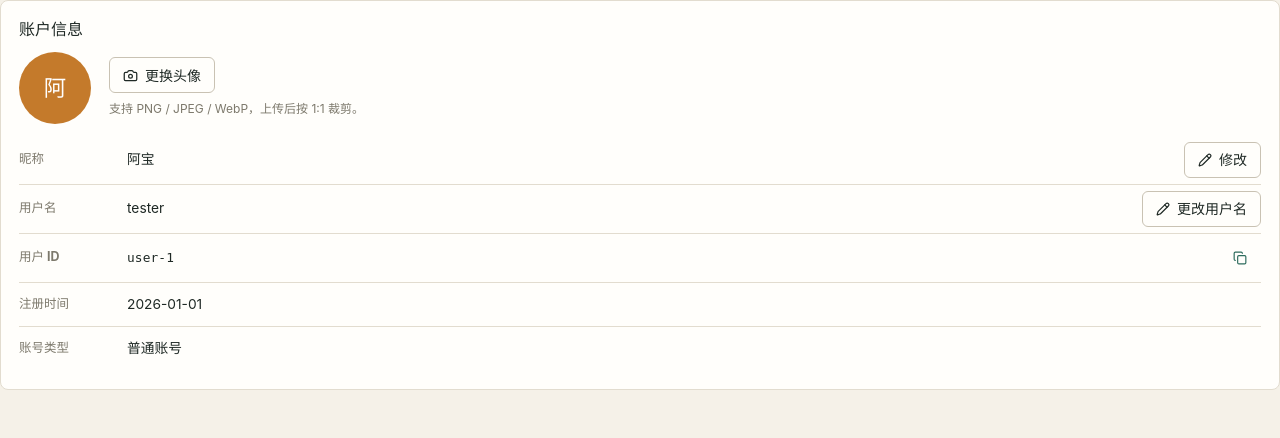
Test case: AccountSection › saves a valid nickname and reflects the new value
Click the button "修改" at (1222, 160), box [1184, 142, 1261, 178]
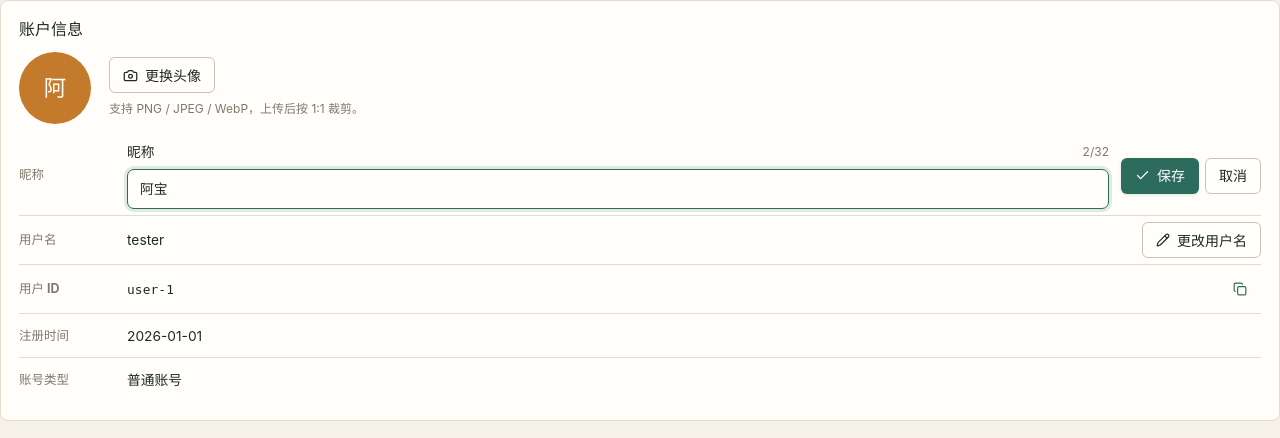
Replace the text in the field labelled "昵称" with "新昵称" at (618, 189), box [127, 169, 1109, 209]
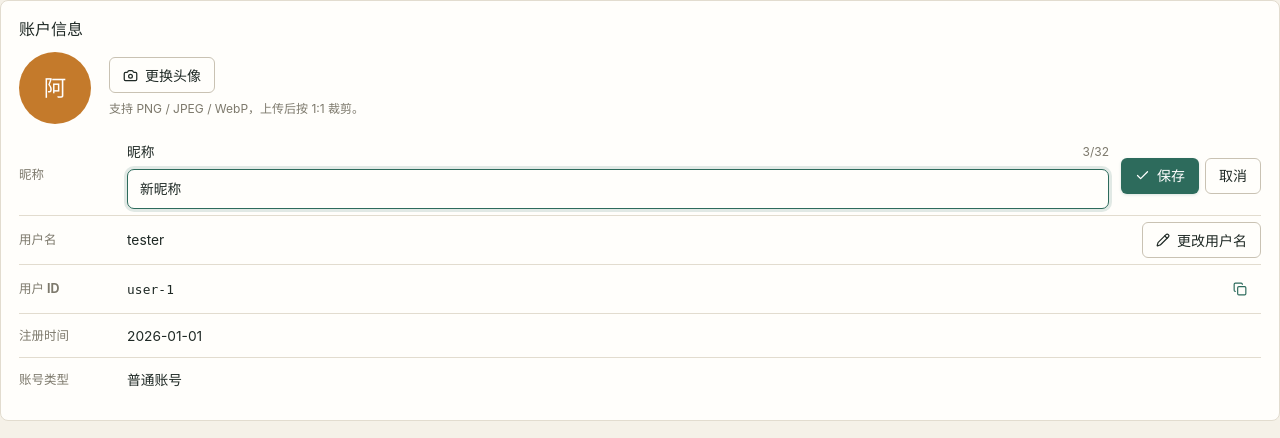
Click the button "保存" at (1160, 176), box [1121, 158, 1199, 194]
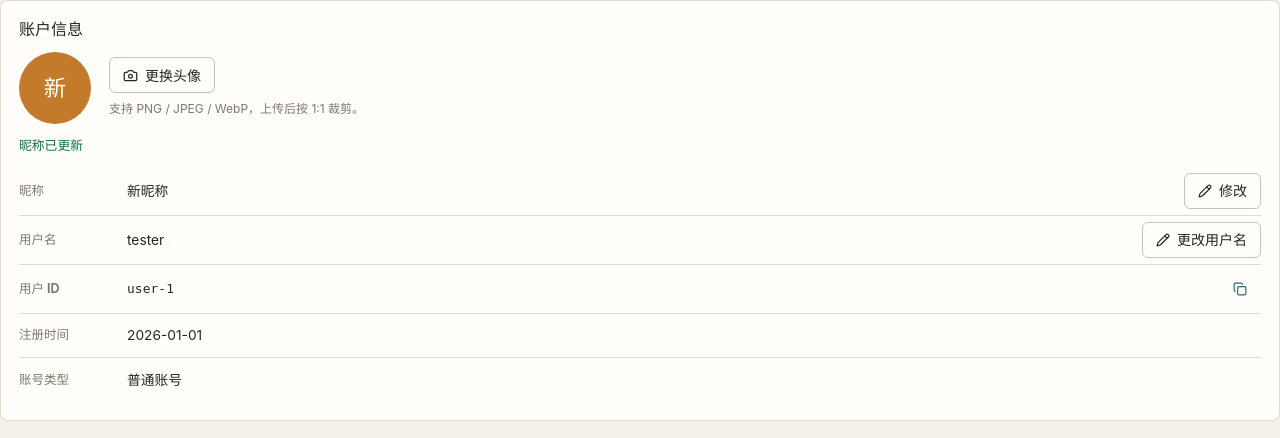
Expected: the text "昵称已更新" is shown, [19, 138, 83, 153]
Expected: the text "新昵称" is shown, [127, 183, 168, 199]
